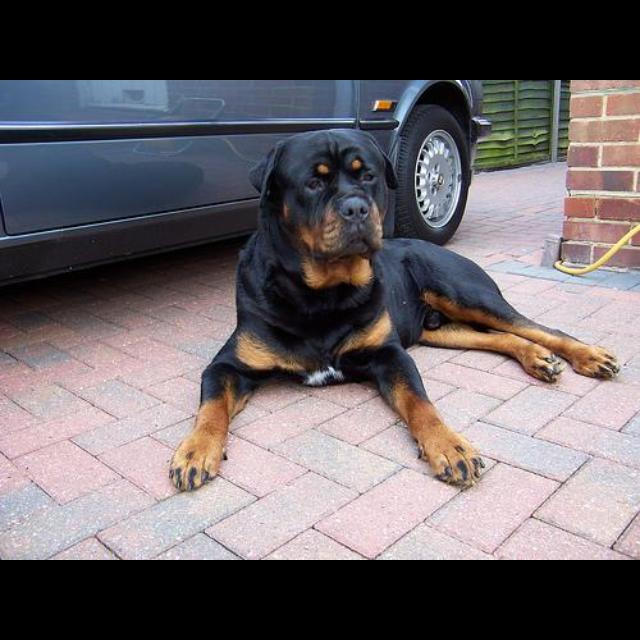rottweiler: (168, 127, 621, 493)
